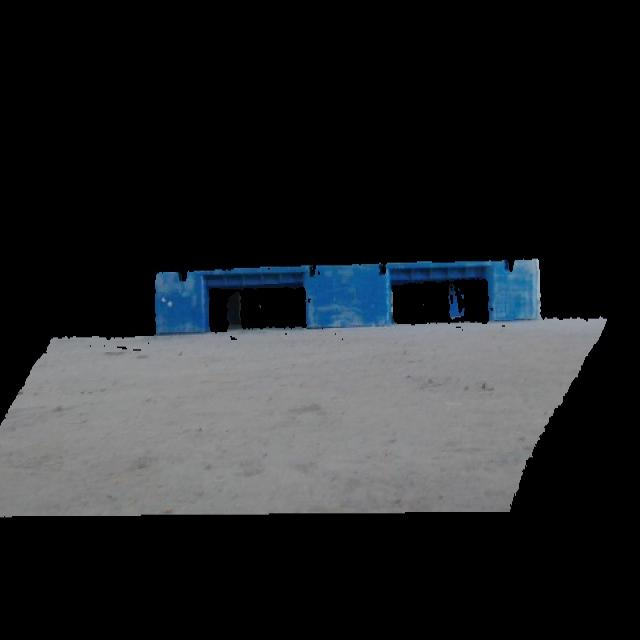block: (303, 264, 397, 327), (151, 271, 208, 336), (492, 258, 541, 323)
front: (150, 254, 547, 337)
